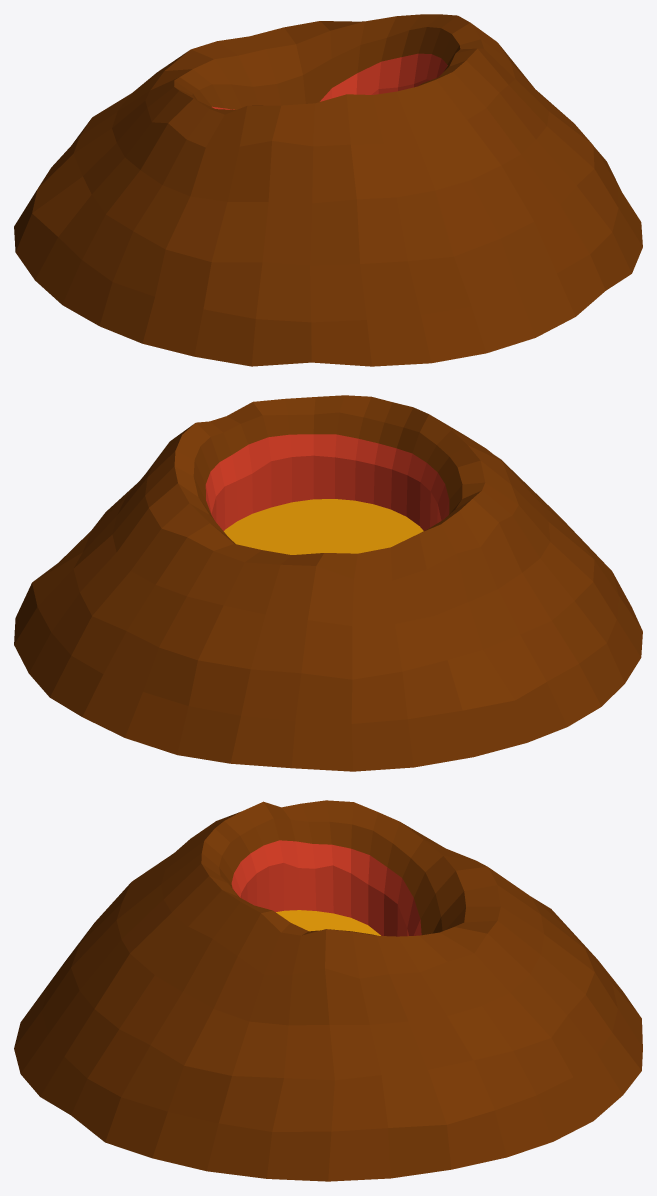
Rendered from volcano.fbx.
The picture shows the model from 3 angles, top to bottom: view 1: azimuth 30°, elevation 25°; view 2: azimuth 150°, elevation 25°; view 3: azimuth 270°, elevation 25°; orthographic projection.
Visible parts, largest first — view 1: Cylinder; view 2: Cylinder; view 3: Cylinder.
Boxes of the visible parts, box(x1,y1,x2,y2) form: Cylinder: box(14, 14, 642, 366); Cylinder: box(14, 395, 642, 771); Cylinder: box(14, 800, 642, 1181).
Size of the model in its own units: 664 by 297 by 660.
